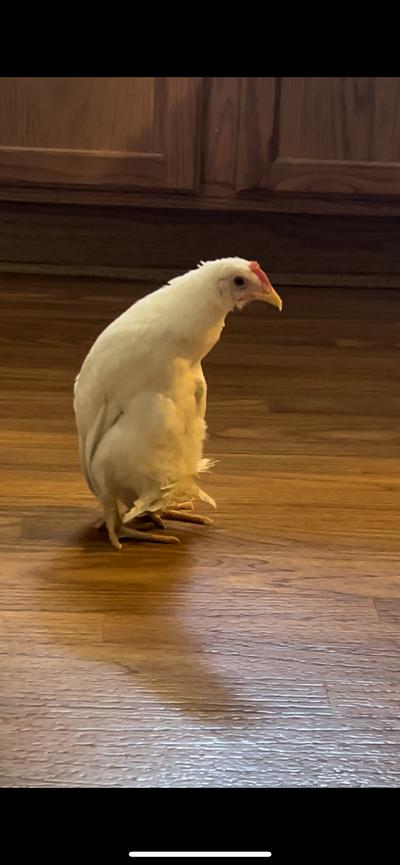AbNormal: (28, 232, 292, 565)
